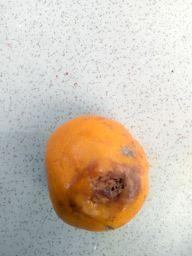orange: (43, 114, 151, 232)
